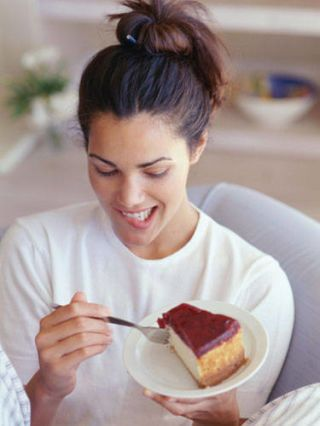eating: (41, 12, 304, 370)
